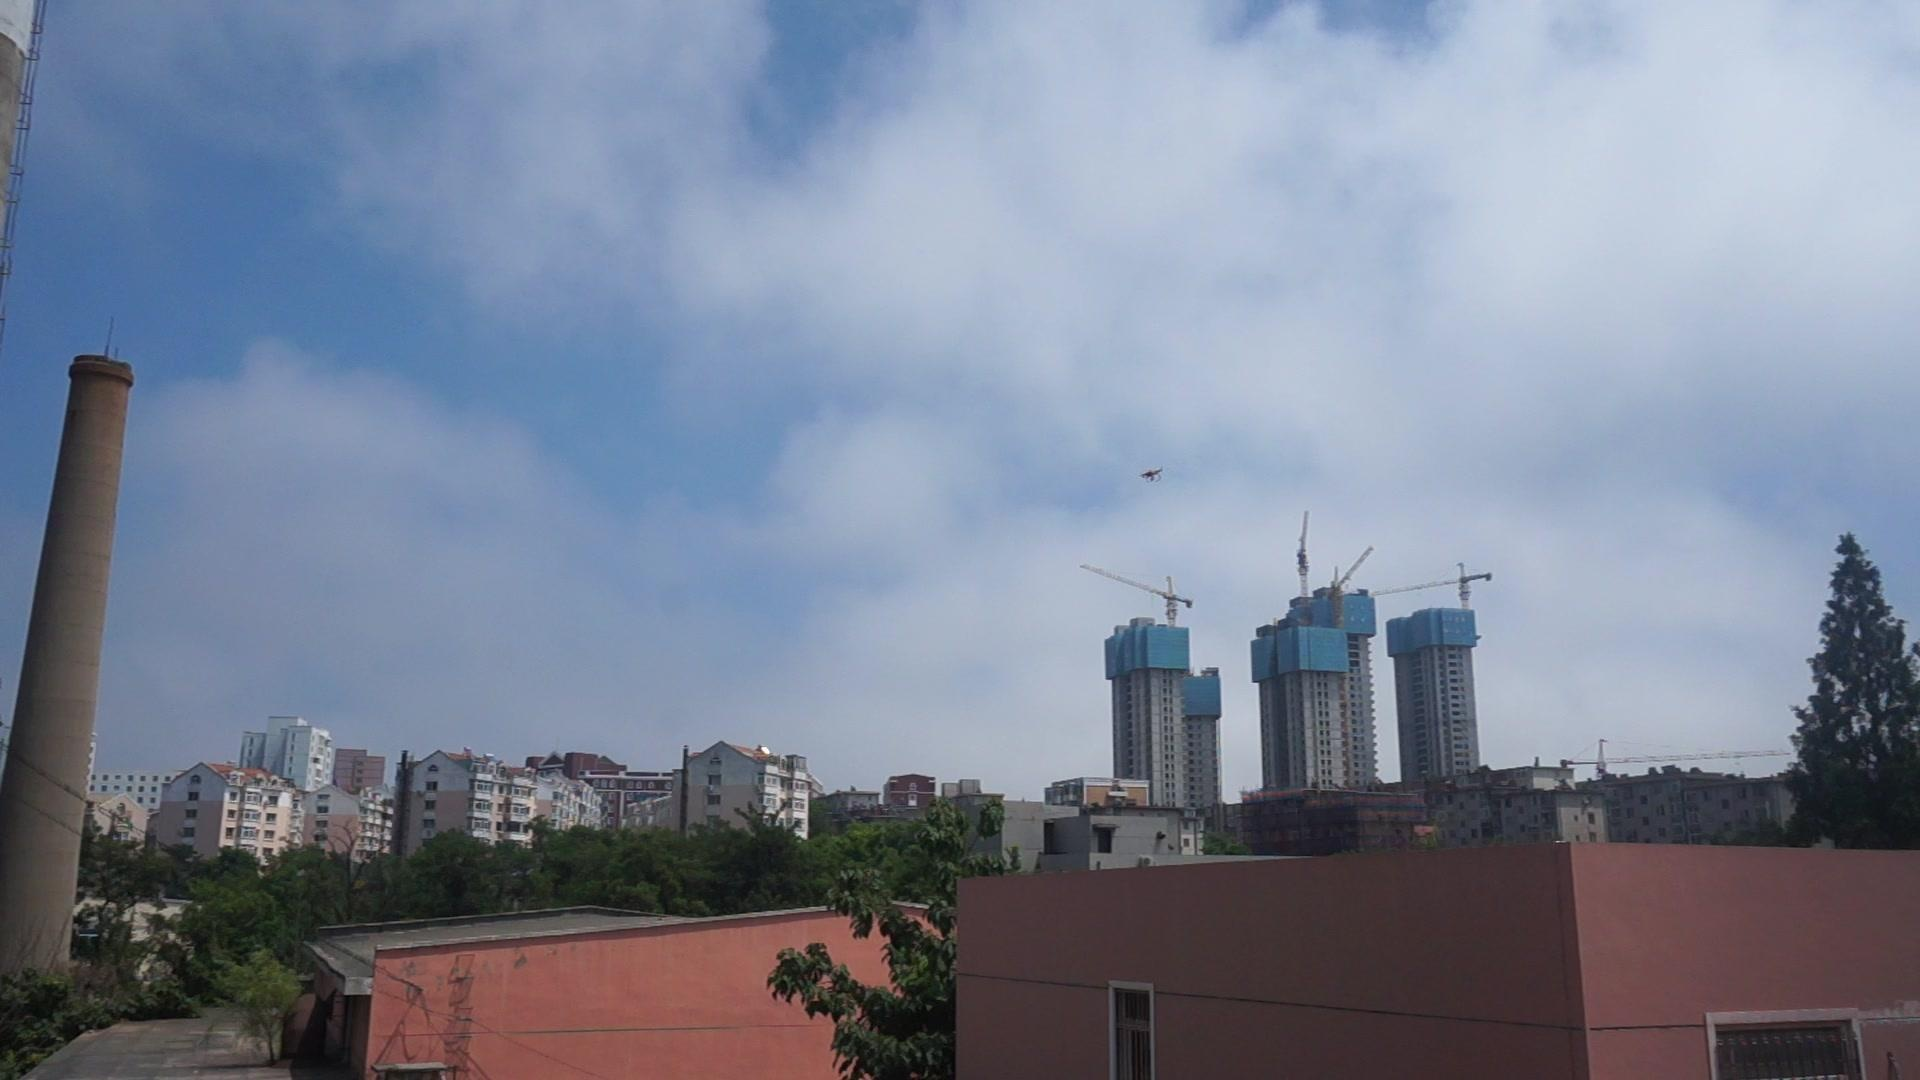UAV: (1138, 465, 1168, 485)
